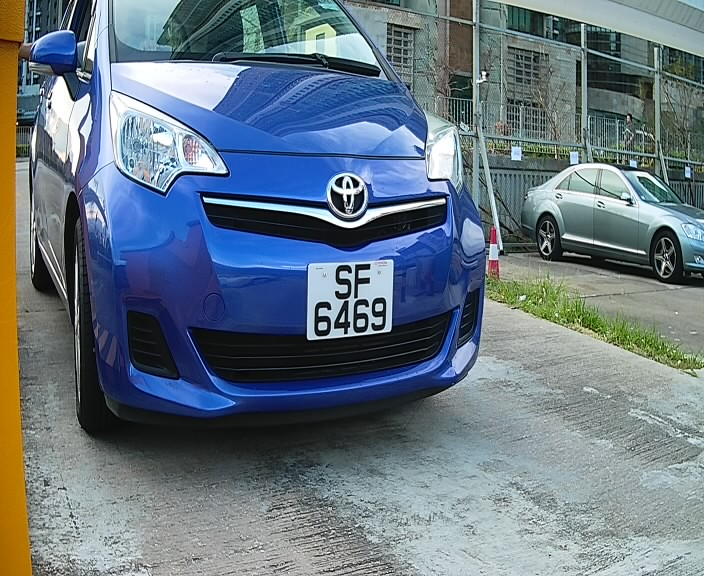Car: (35, 1, 489, 454)
License Plate: (299, 252, 405, 349)
